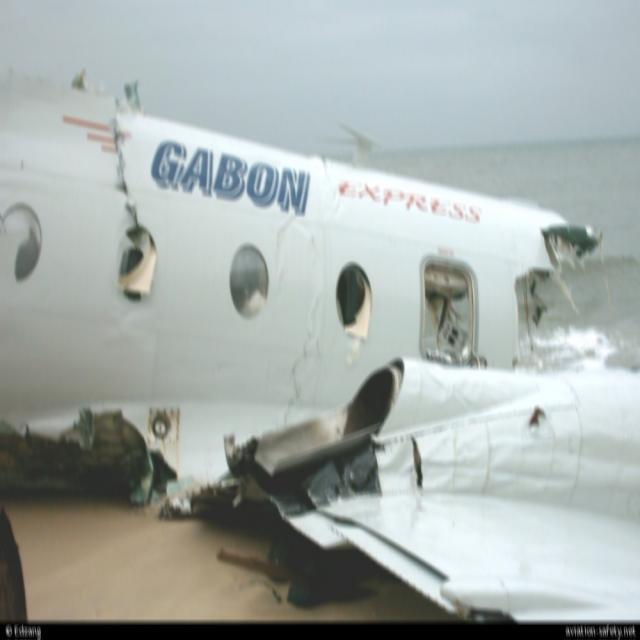crack: (107, 97, 143, 233), (277, 326, 318, 436), (276, 212, 301, 291), (408, 436, 433, 494)
